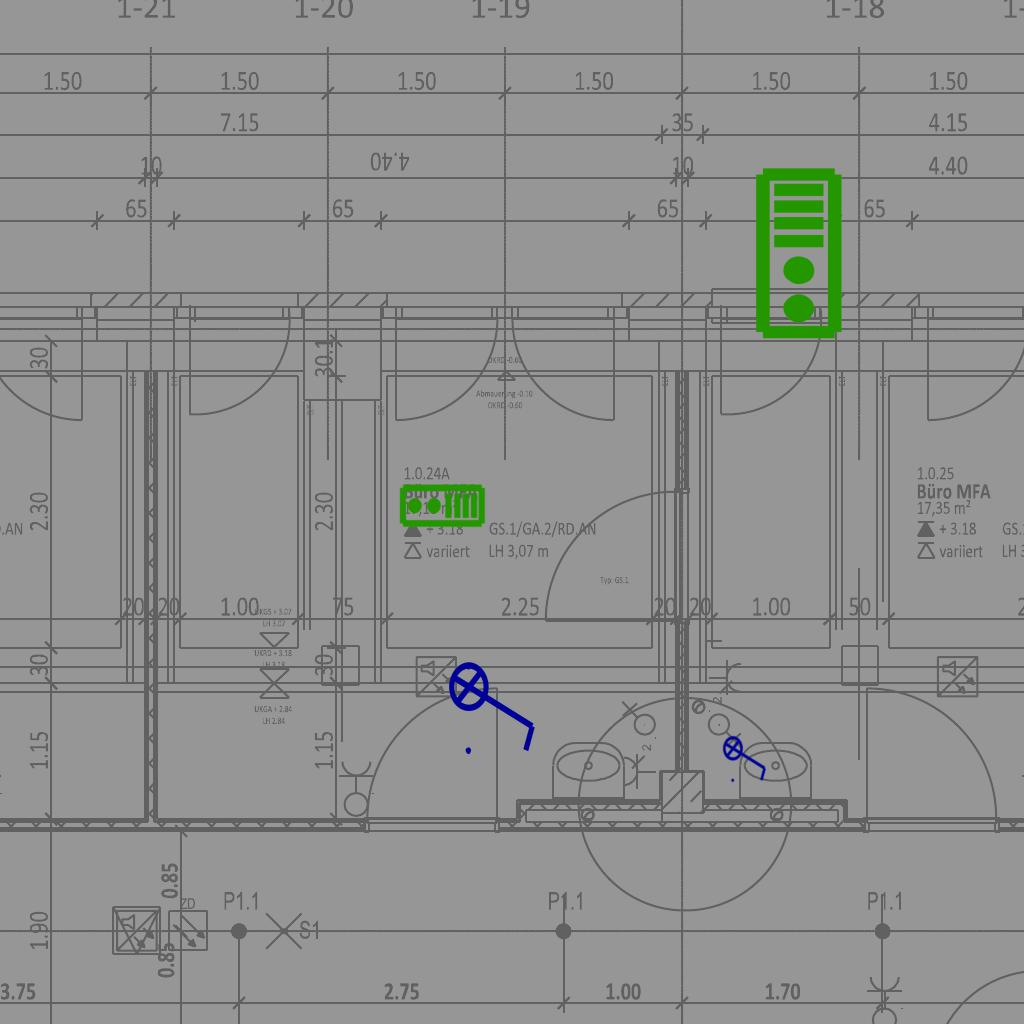Ausschalter_beleuchtet: (447, 648, 543, 760), (722, 729, 770, 785)
Gegensprechanlage_mit_Video: (753, 166, 848, 342), (398, 483, 486, 530)
